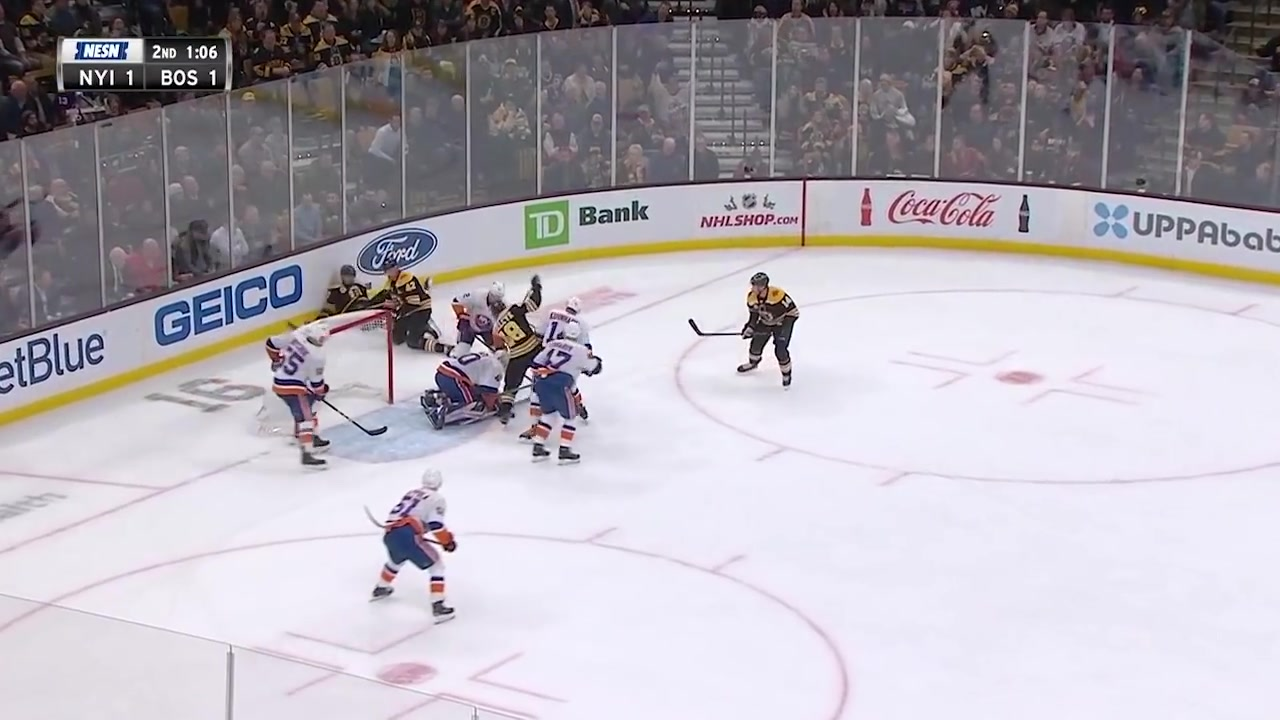Geico: (151, 264, 307, 356)
